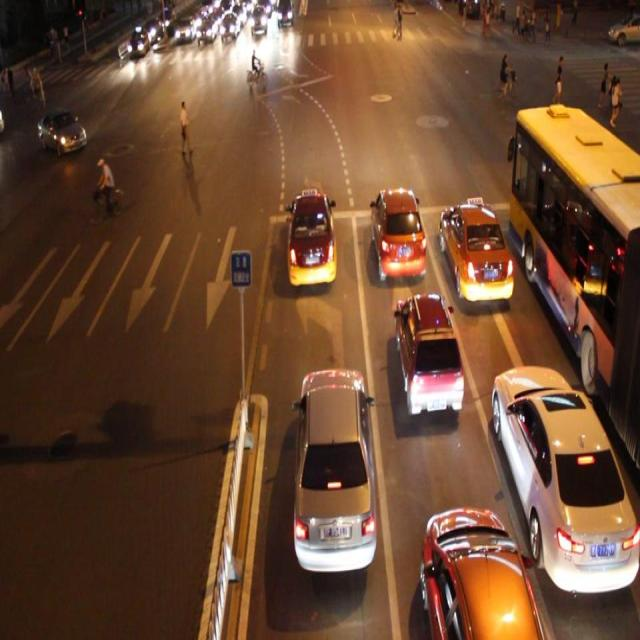car: (491, 364, 640, 596), (293, 363, 377, 574), (419, 501, 543, 640), (393, 293, 462, 417), (440, 201, 512, 307), (367, 185, 426, 284), (286, 187, 336, 287), (38, 110, 88, 154)
van: (512, 104, 640, 463)
